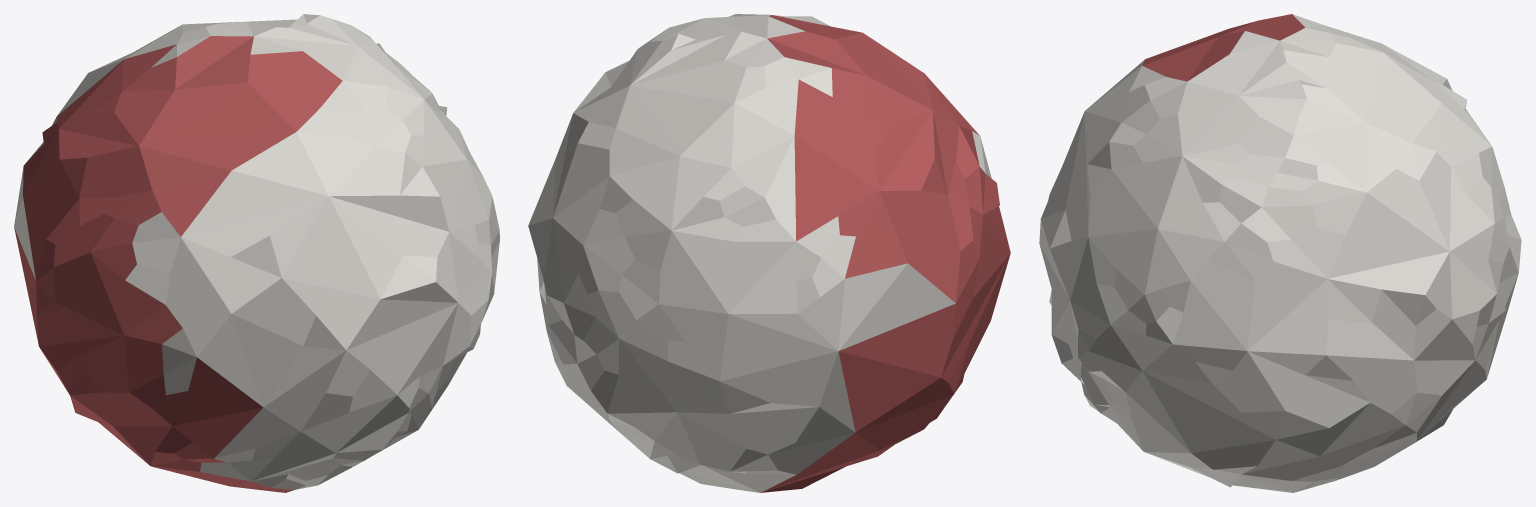
The model's file is plüton.fbx.
The picture shows the model from 3 angles, left to right: view 1: azimuth 30°, elevation 25°; view 2: azimuth 150°, elevation 25°; view 3: azimuth 270°, elevation 25°; orthographic projection.
Parts seen in each view (by area): view 1: Plüton; view 2: Plüton; view 3: Plüton.
Boxes of the visible parts, bbox=[...] form: Plüton: bbox=[14, 14, 499, 492]; Plüton: bbox=[528, 14, 1010, 492]; Plüton: bbox=[1039, 14, 1521, 492].
Bounding box in the file's own units: 1.22 × 1.24 × 1.24.
